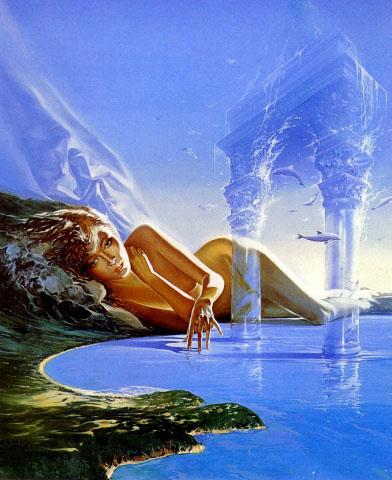person: (20, 207, 385, 351)
